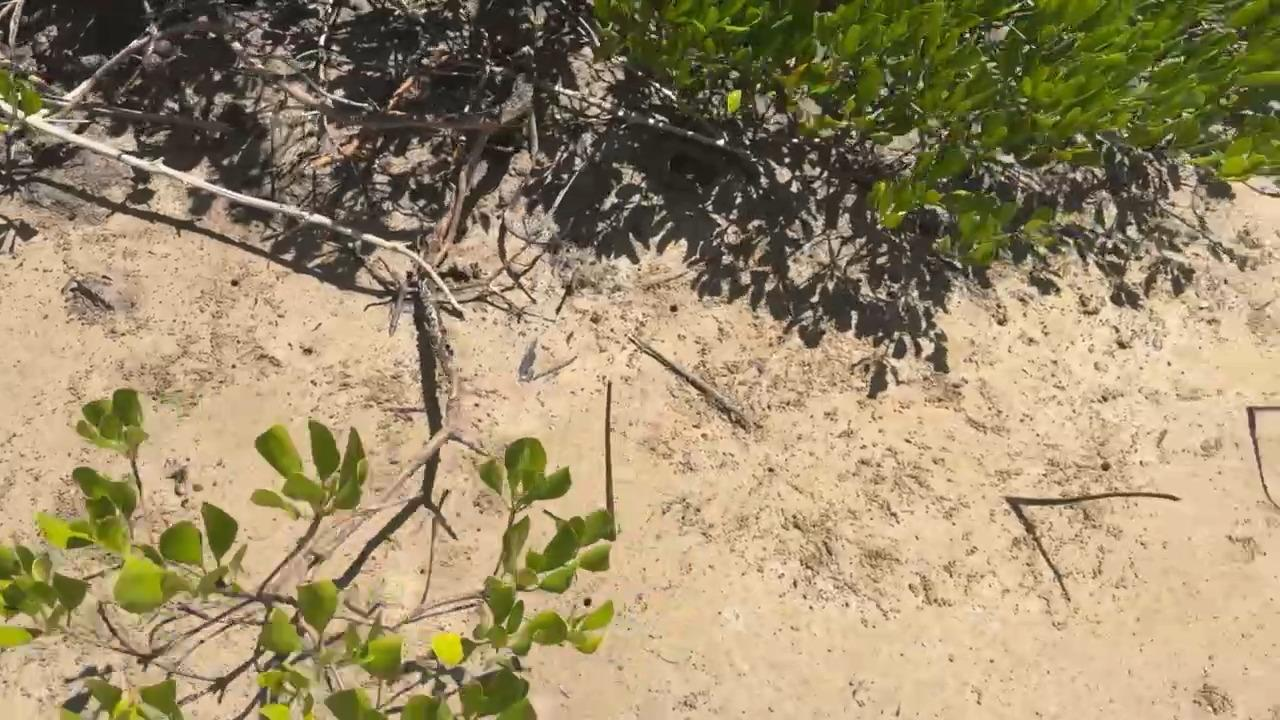Tree: (1005, 488, 1182, 508), (603, 377, 619, 541), (1247, 403, 1280, 413)
